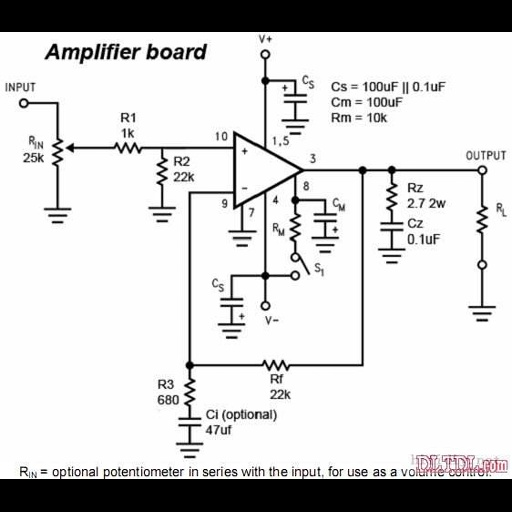amplifier: (226, 130, 305, 209)
capacitor: (376, 219, 406, 235), (174, 414, 203, 430)
firstpolarcapacitor: (214, 294, 249, 320), (277, 83, 309, 107), (309, 210, 340, 234)
gnd: (278, 118, 316, 137), (144, 205, 178, 225), (42, 205, 74, 226), (309, 236, 343, 255), (375, 247, 409, 266), (224, 230, 259, 248), (173, 441, 207, 459), (216, 322, 248, 341), (467, 305, 502, 322)
secondresistance: (378, 179, 402, 214), (108, 139, 148, 159), (472, 200, 492, 239), (255, 355, 298, 372), (153, 154, 170, 191), (287, 208, 303, 245), (182, 375, 198, 409)
